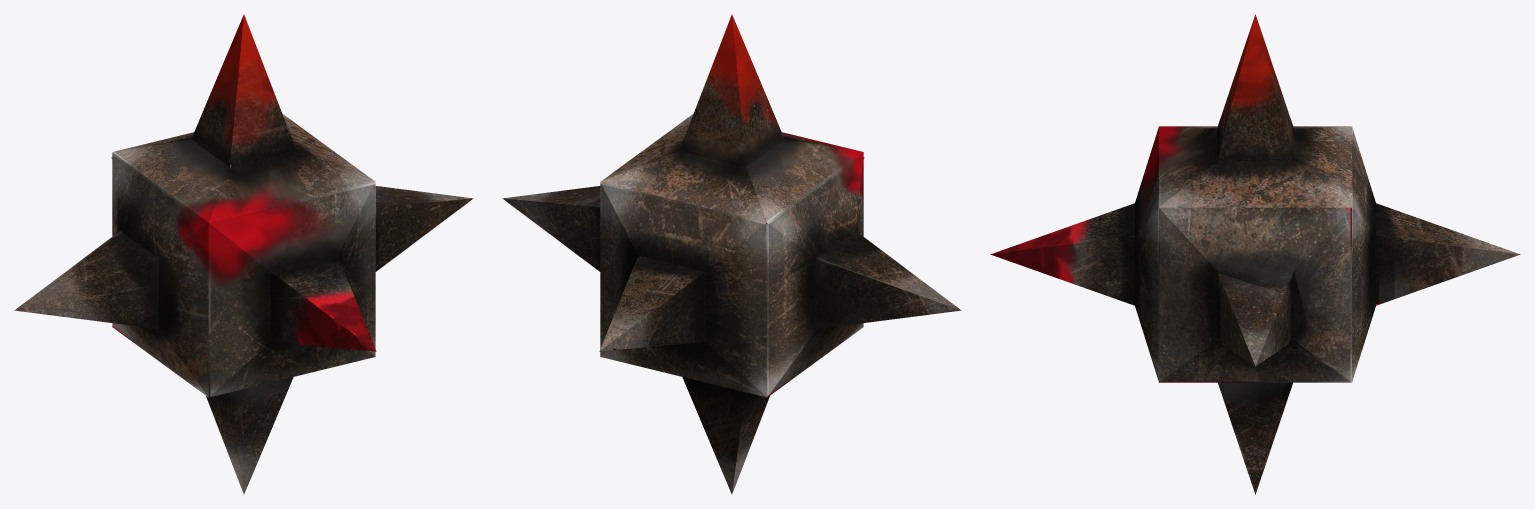
File: Pinchos.fbx
3 renders of one model, left to right at view 1: azimuth 30°, elevation 25°; view 2: azimuth 150°, elevation 25°; view 3: azimuth 270°, elevation 25°, orthographic.
Visible parts, largest first — view 1: Cube; view 2: Cube; view 3: Cube.
Part boxes in pixels (x1,y1,x2,y2): Cube: [14, 14, 473, 494]; Cube: [502, 14, 961, 494]; Cube: [990, 14, 1520, 494].
Bounding box in the file's own units: 550 × 550 × 550.
Materials: 1 (1 with a texture image).
